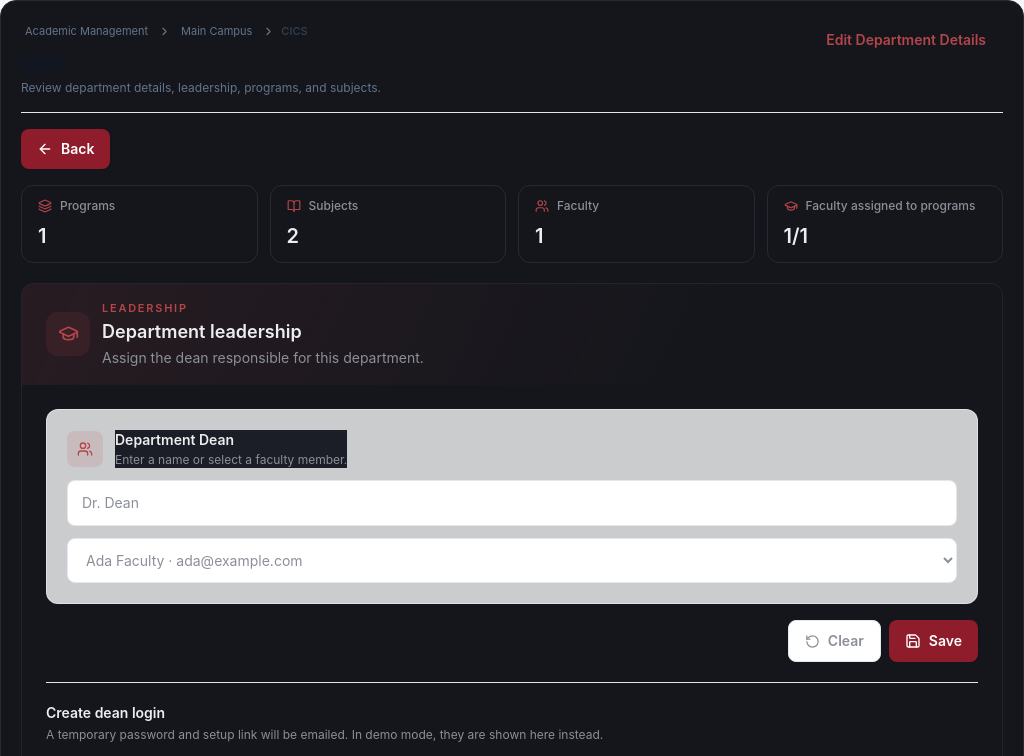
Test: department details dialog stays within the viewport and can scroll
What coordinates should you click on to do the following:
click the button "Edit Department Details"
I would click on:
 (906, 40)
Its box is [809, 21, 1003, 59].
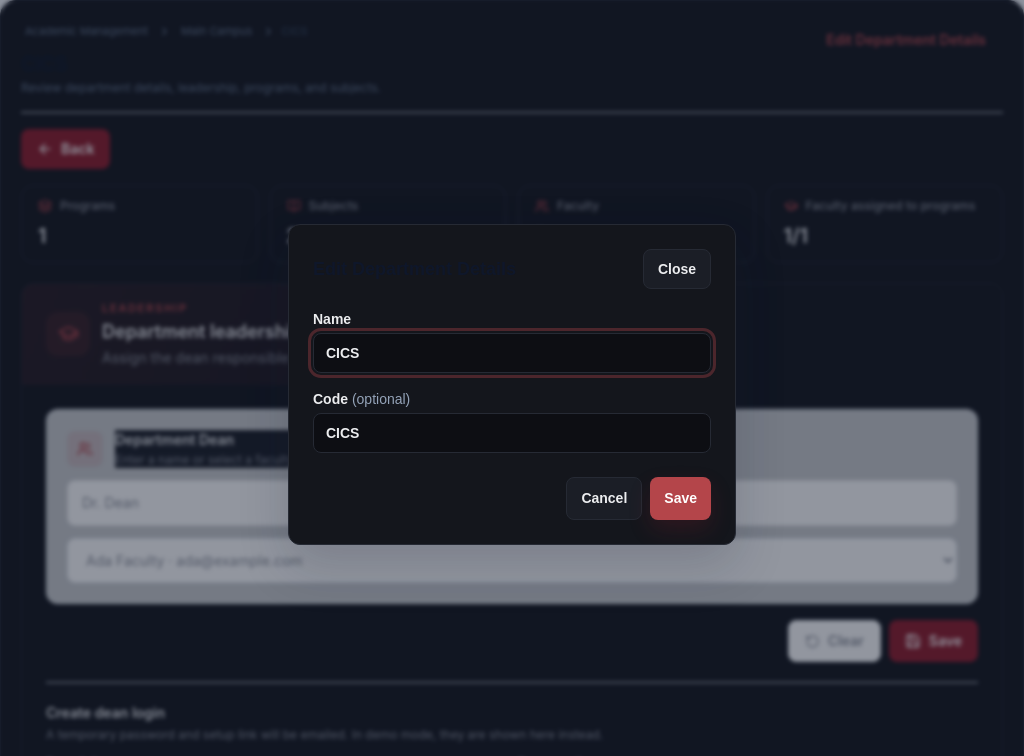
Expected: the submit button reads "Save", [650, 476, 711, 520]
